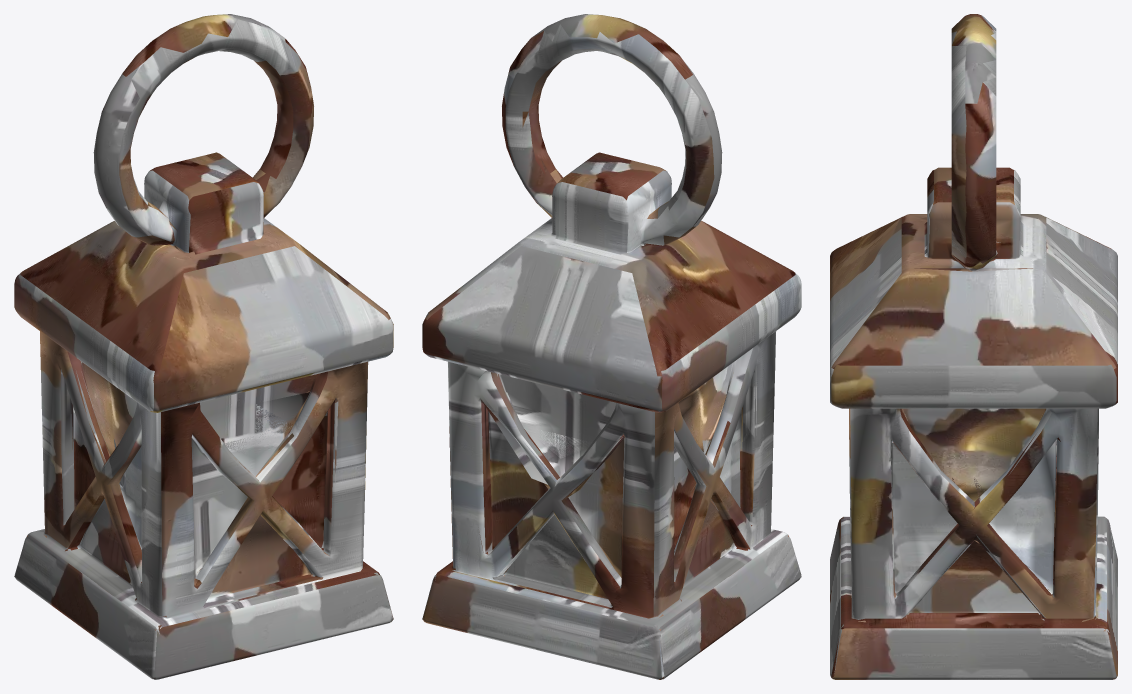
File: lantern.glb
3 renders of one model, left to right at view 1: azimuth 30°, elevation 25°; view 2: azimuth 150°, elevation 25°; view 3: azimuth 270°, elevation 25°, orthographic. The views are drawn at different scales.
Visible parts, largest first — view 1: Mesh_0; view 2: Mesh_0; view 3: Mesh_0.
Boxes of the visible parts, x1,y1,x2,y2 form: Mesh_0: (14, 14, 393, 679); Mesh_0: (422, 14, 801, 679); Mesh_0: (830, 14, 1117, 679).
Size of the model in its own units: 0.8336 by 1.91 by 0.8336.
1 material, 1 textured.
